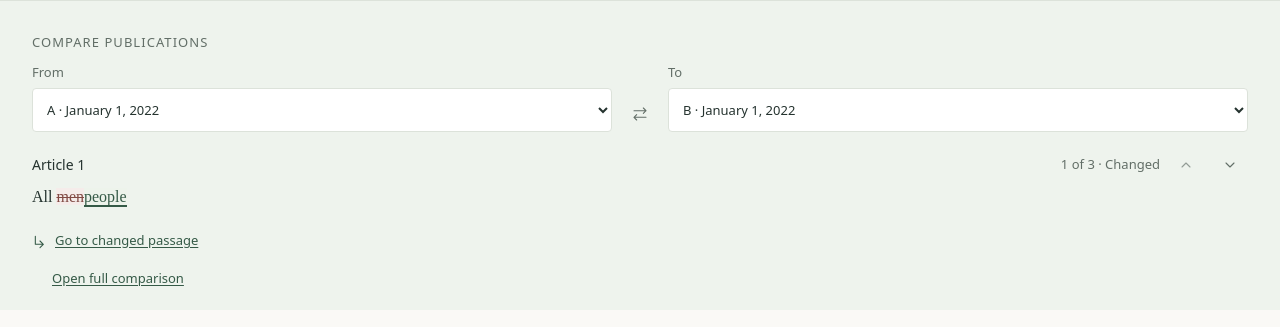
swaps direction, selects any publication and reuses cached comparisons
Click the button named "Swap publications".
click(640, 114)  # box [622,96,658,132]
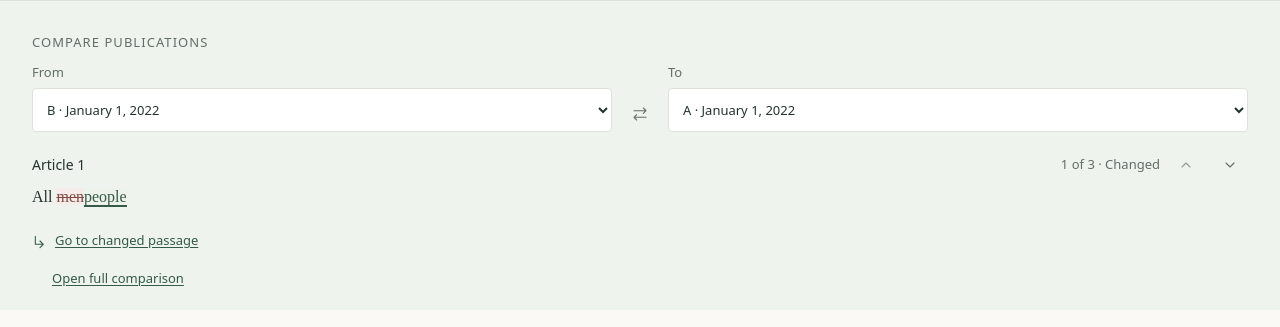
Click the button named "Swap publications".
click(640, 114)  # box [622,96,658,132]
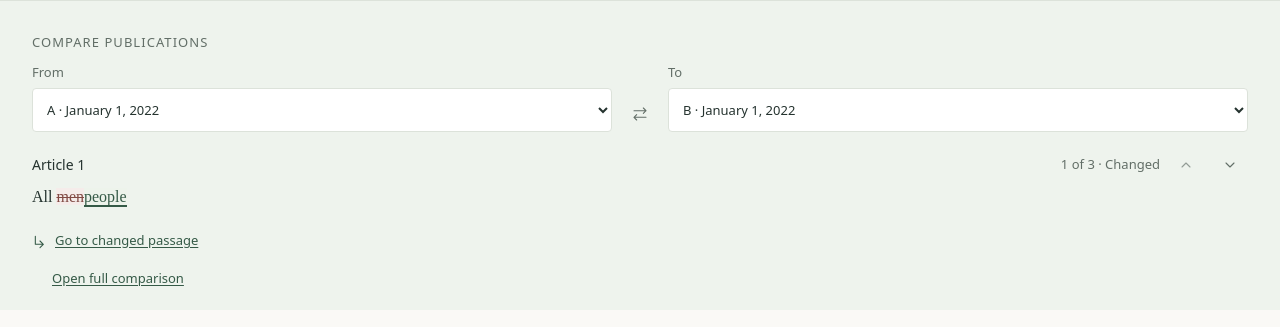
Select "C · January 1, 2022" in the dropdown labelled "To" at (958, 110), box [668,88,1248,132]
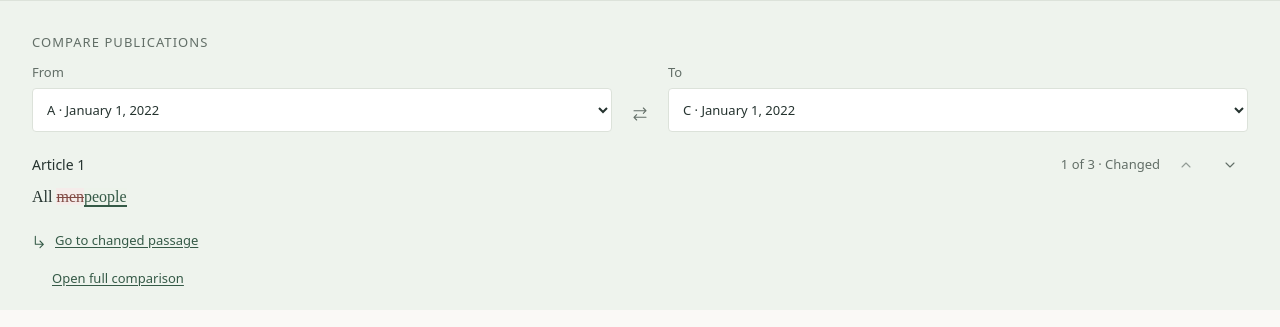
Select "C · January 1, 2022" in the dropdown labelled "From" at (322, 110), box [32,88,612,132]
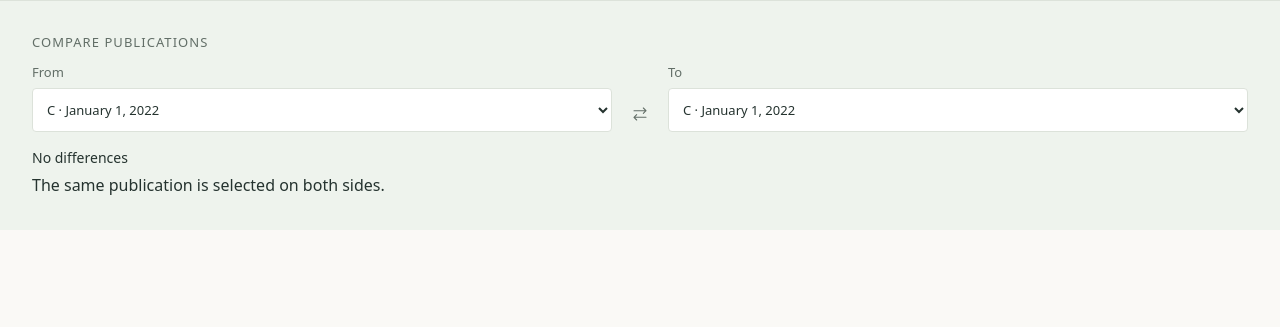
Result: the text "The same publication is selected" is shown at [32,174,385,196]
